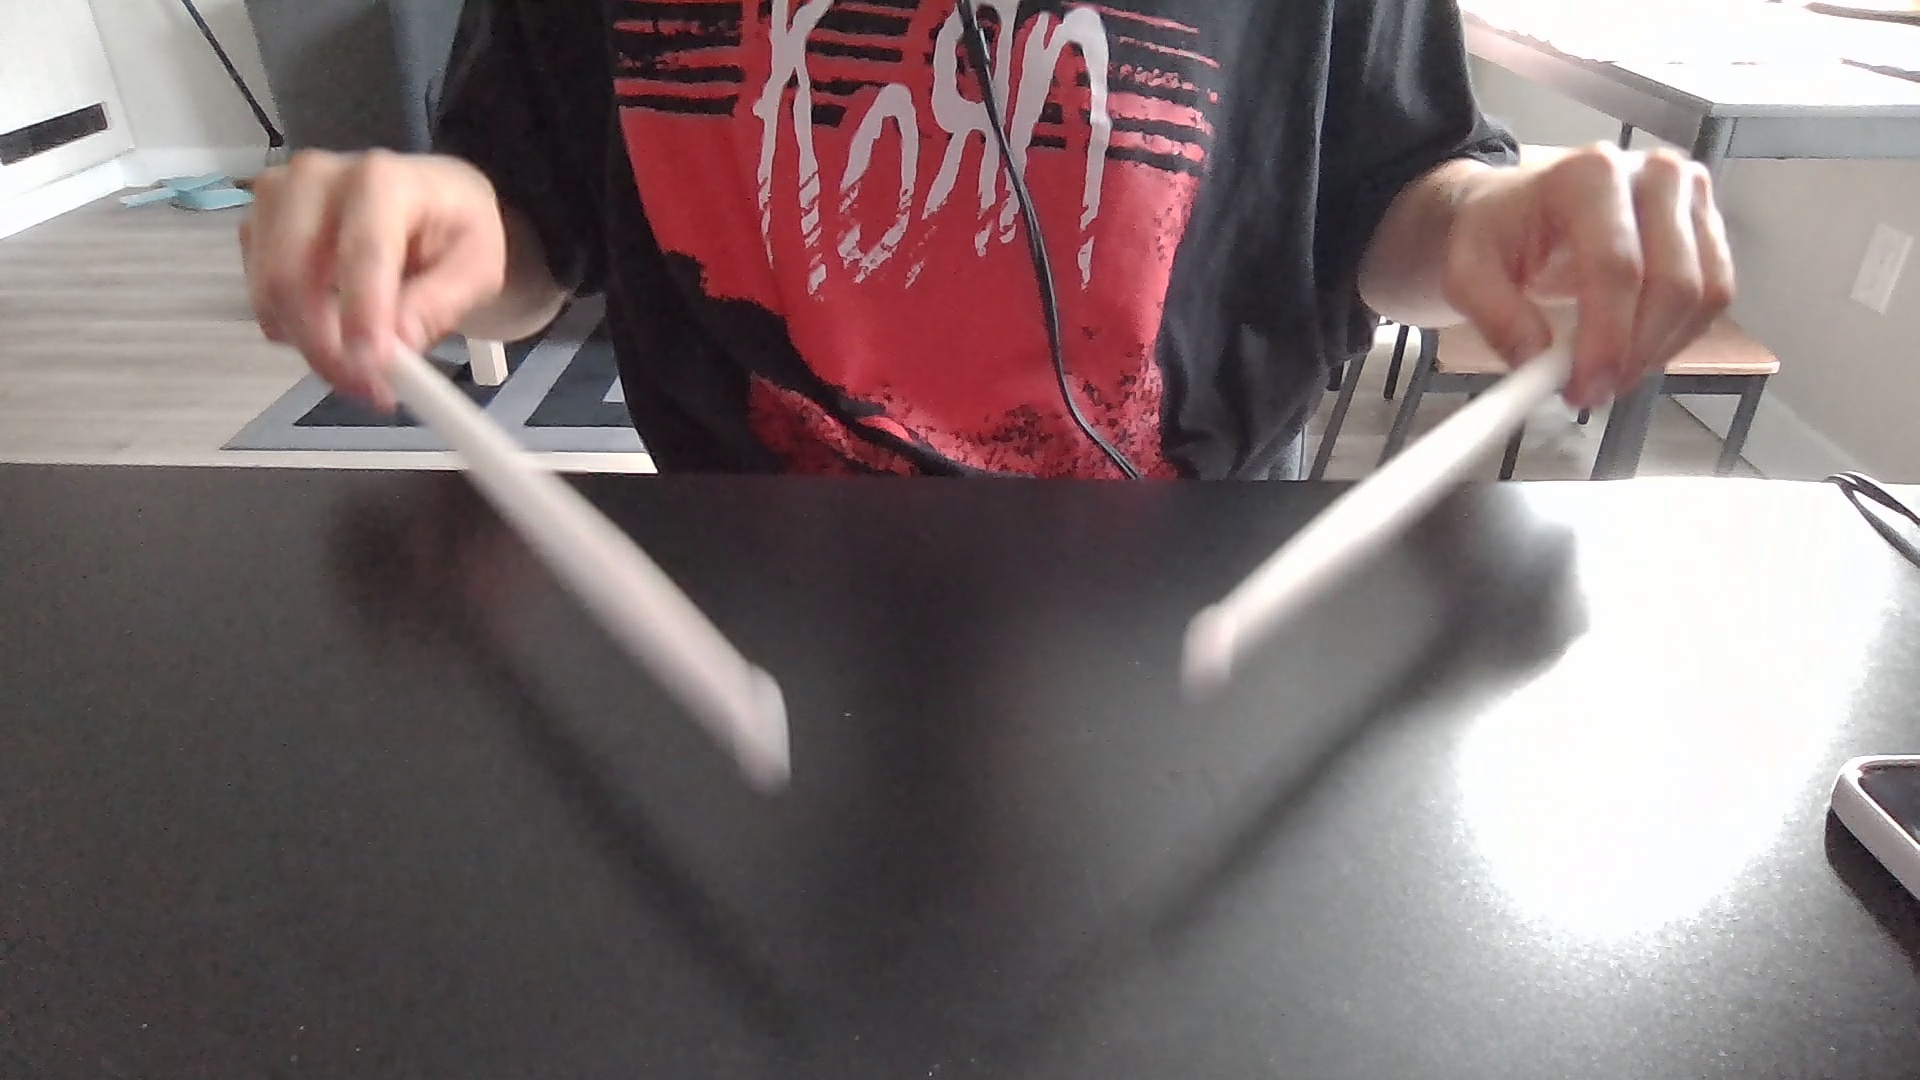left_stick: (713, 640, 818, 800)
right_stick: (1170, 589, 1259, 696)
